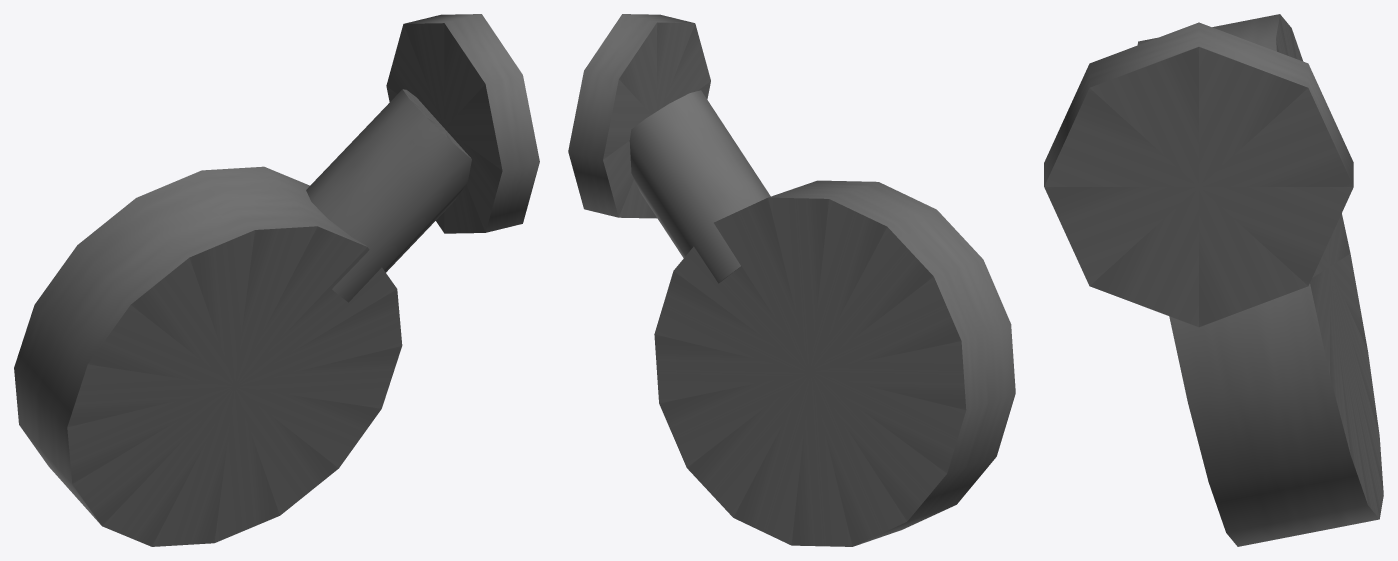
Rendered from mastarmcurve_8x2_c6_east.obj.
3 renders of one model, left to right at view 1: azimuth 30°, elevation 25°; view 2: azimuth 150°, elevation 25°; view 3: azimuth 270°, elevation 25°, orthographic. The views are drawn at different scales.
Parts seen in each view (by area): view 1: mastarm_8x2_c6_east; view 2: mastarm_8x2_c6_east; view 3: mastarm_8x2_c6_east.
Part boxes in pixels (x1=…): mastarm_8x2_c6_east: x1=14, y1=14, x2=539, y2=546; mastarm_8x2_c6_east: x1=568, y1=14, x2=1015, y2=546; mastarm_8x2_c6_east: x1=1044, y1=14, x2=1383, y2=546.
Bounding box in the file's own units: 0.8324 × 0.9113 × 0.4388.
